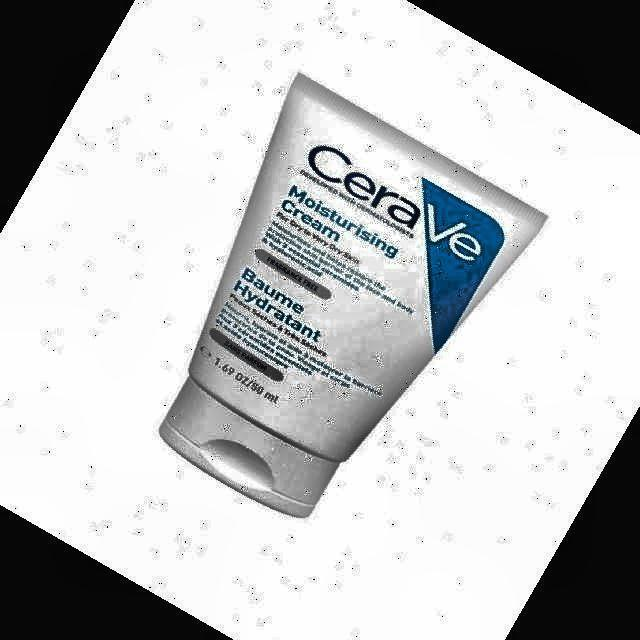plastic: (160, 75, 546, 516)
